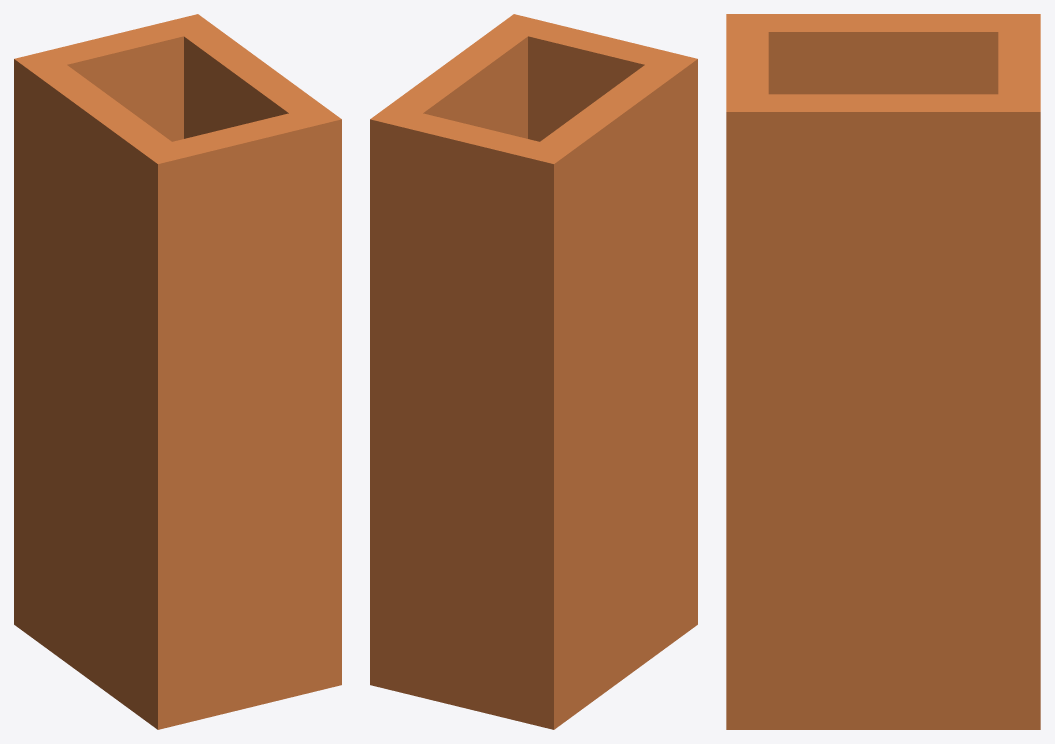
The model's file is vase.fbx.
3 renders of one model, left to right at view 1: azimuth 30°, elevation 25°; view 2: azimuth 150°, elevation 25°; view 3: azimuth 270°, elevation 25°, orthographic. The views are drawn at different scales.
Visible parts, largest first — view 1: vase; view 2: vase; view 3: vase.
Part boxes in pixels (x1,y1,x2,y2): vase: [14, 14, 341, 729]; vase: [370, 14, 697, 729]; vase: [726, 14, 1040, 729].
Size of the model in its own units: 21.71 by 63.79 by 29.41.
